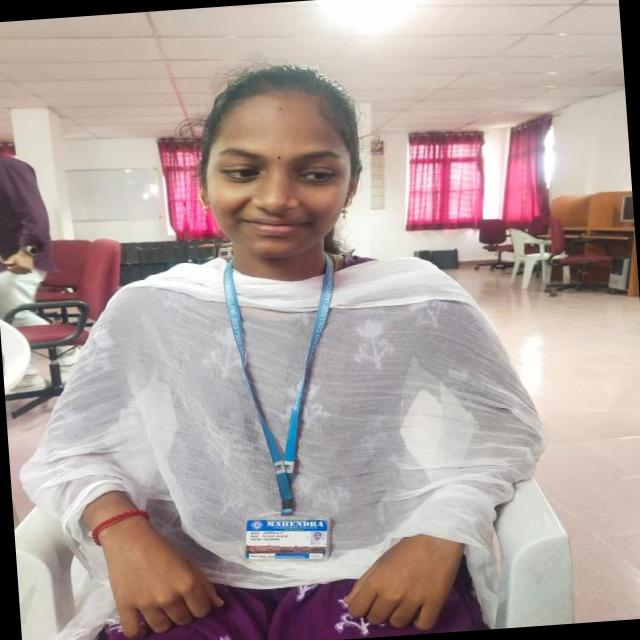id_card: (215, 253, 357, 572)
